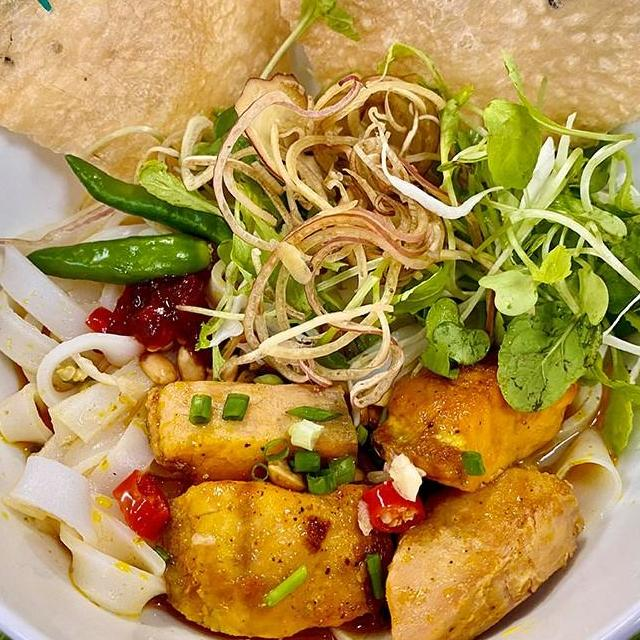banh da: (251, 0, 640, 181), (0, 0, 324, 205)
ca: (152, 473, 402, 640), (376, 461, 587, 640), (366, 354, 588, 501), (140, 374, 362, 498)
mi: (0, 218, 230, 621), (520, 370, 628, 534)
